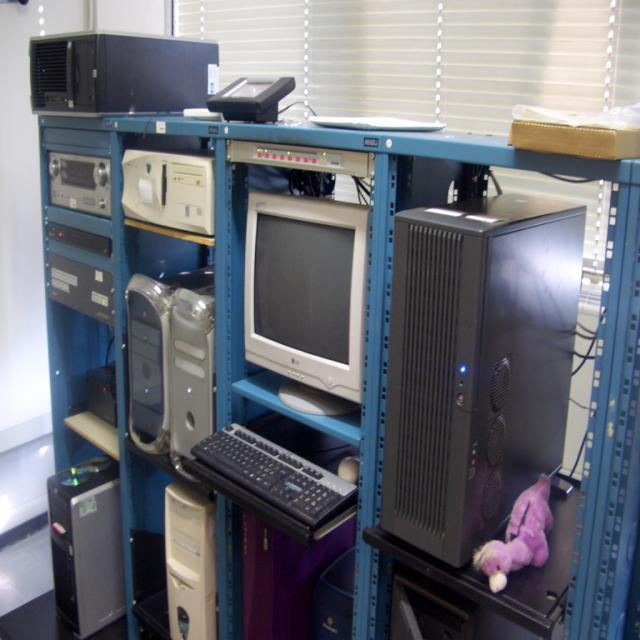others: (25, 26, 640, 633)
